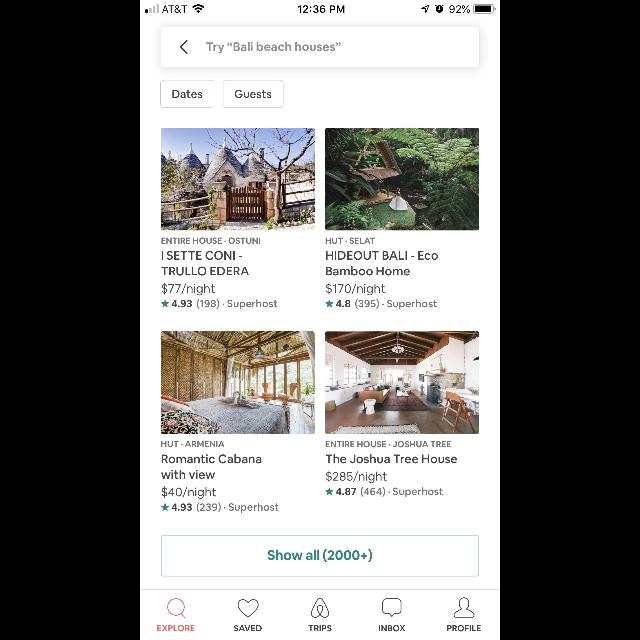icon: (382, 598, 402, 618), (454, 598, 474, 618), (167, 598, 185, 618), (238, 599, 258, 617), (180, 40, 188, 54), (325, 300, 333, 308), (161, 300, 169, 308), (161, 504, 169, 511), (326, 488, 334, 494)
image: (161, 128, 315, 230), (325, 128, 479, 230), (161, 332, 315, 434), (326, 332, 478, 434), (311, 598, 329, 618)
input: (160, 26, 480, 68)
text: (327, 454, 458, 484), (326, 250, 438, 276), (161, 454, 261, 480), (162, 250, 248, 276), (206, 42, 340, 54), (172, 502, 278, 514), (337, 298, 438, 310), (336, 487, 444, 497), (172, 299, 278, 309), (326, 282, 386, 296), (326, 441, 450, 447), (162, 282, 215, 296), (162, 486, 216, 499), (162, 238, 260, 244), (162, 441, 224, 447), (326, 238, 374, 244), (158, 625, 195, 631), (448, 625, 480, 631), (234, 625, 262, 631), (379, 625, 405, 631), (308, 625, 332, 631)
textbutton: (161, 535, 479, 577), (223, 80, 283, 108), (160, 80, 214, 108)
uppertaskbar: (140, 0, 500, 14)
